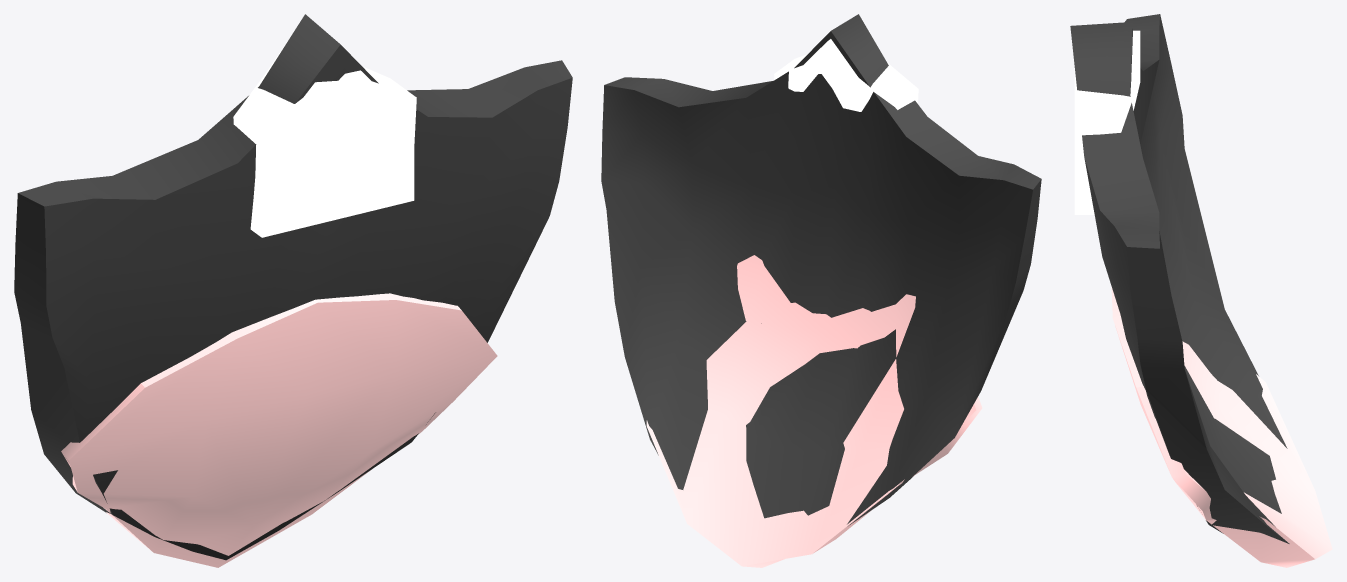
Rendered from CUSTOM_smilewithteeth_mouth.gltf.
3 views of the same model, side by side, from view 1: azimuth 30°, elevation 25°; view 2: azimuth 150°, elevation 25°; view 3: azimuth 270°, elevation 25° (orthographic). The views are drawn at different scales.
Visible parts, largest first — view 1: CUSTOM_smilewithteeth_mouth; view 2: CUSTOM_smilewithteeth_mouth; view 3: CUSTOM_smilewithteeth_mouth.
Part boxes in pixels (x1,y1,x2,y2): CUSTOM_smilewithteeth_mouth: (14, 14, 572, 567); CUSTOM_smilewithteeth_mouth: (601, 14, 1041, 567); CUSTOM_smilewithteeth_mouth: (1070, 14, 1332, 567).
Size of the model in its own units: 0.00748 by 0.00811 by 0.00353.
